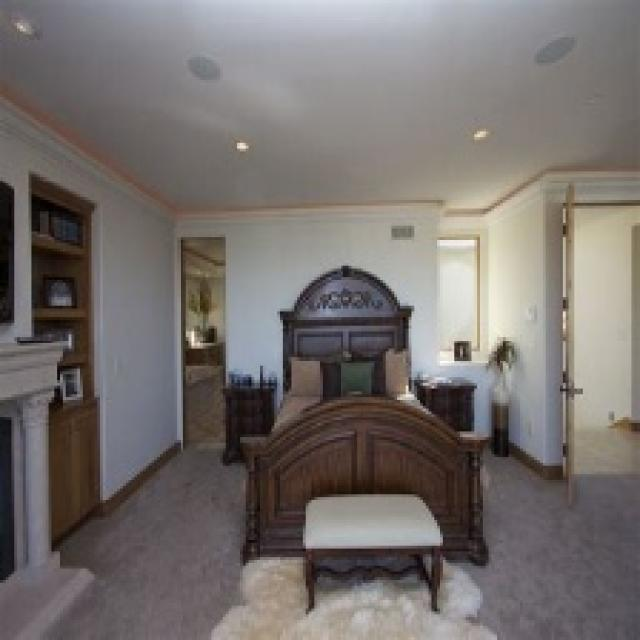Bed: (237, 263, 489, 566)
